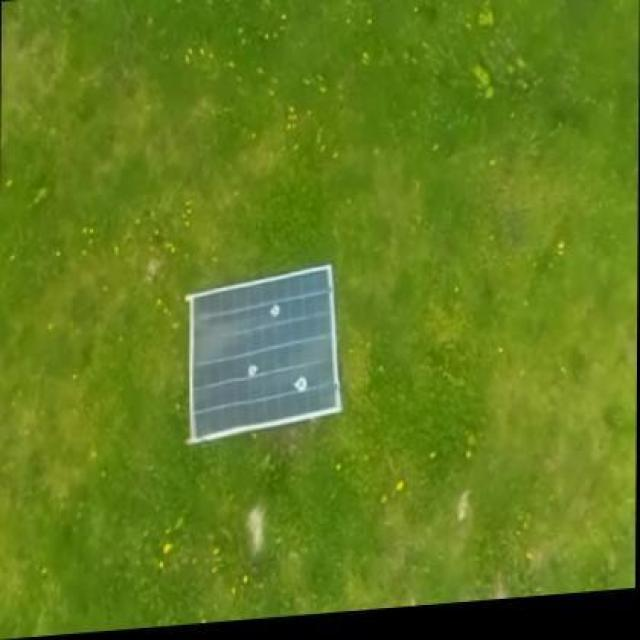soiled: (183, 264, 343, 446)
